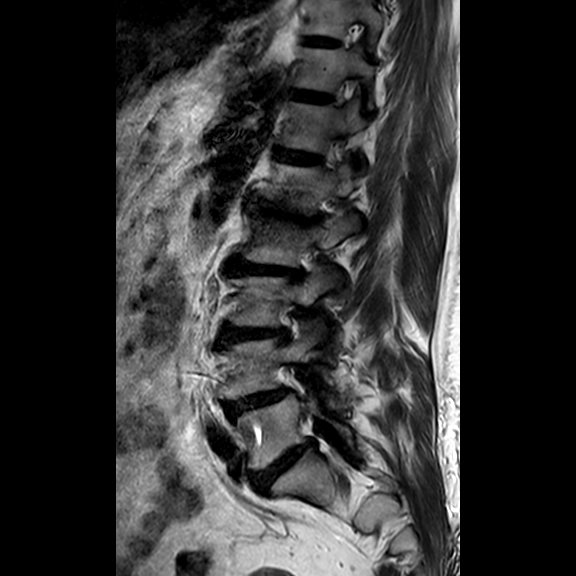LFS0: (260, 297, 314, 350)
